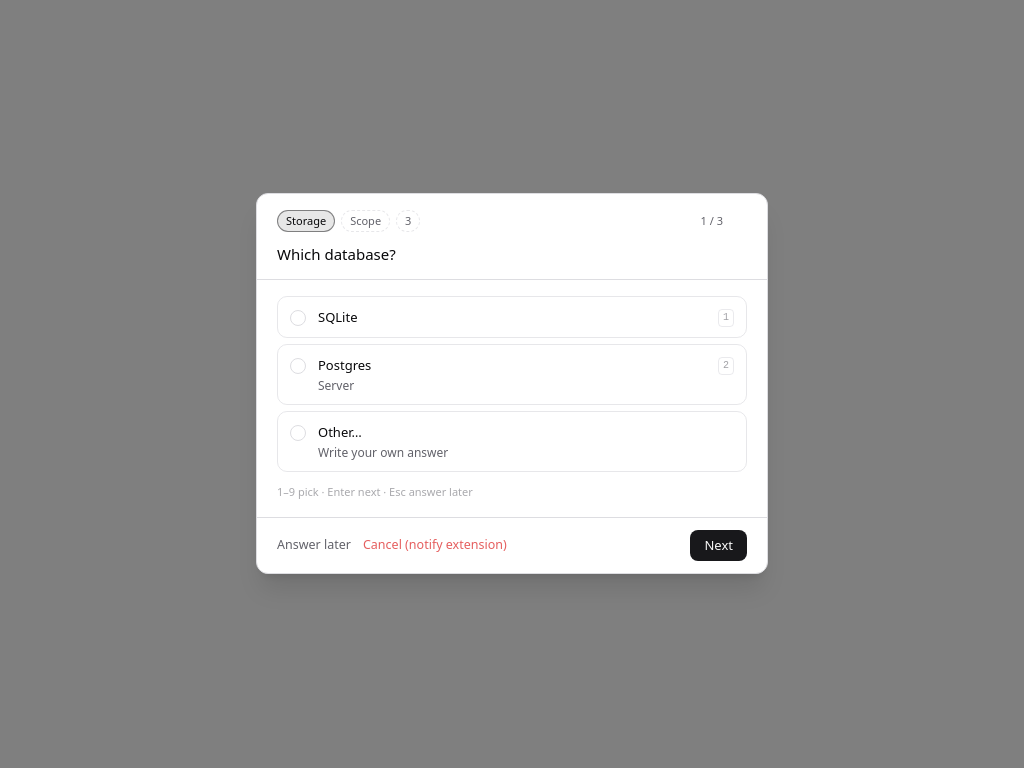
QuestionnaireDialog › sends submit to the first unanswered question instead of submitting blanks
Click the button "3".
click(408, 221)  # box x1=396 y1=210 x2=420 y2=232
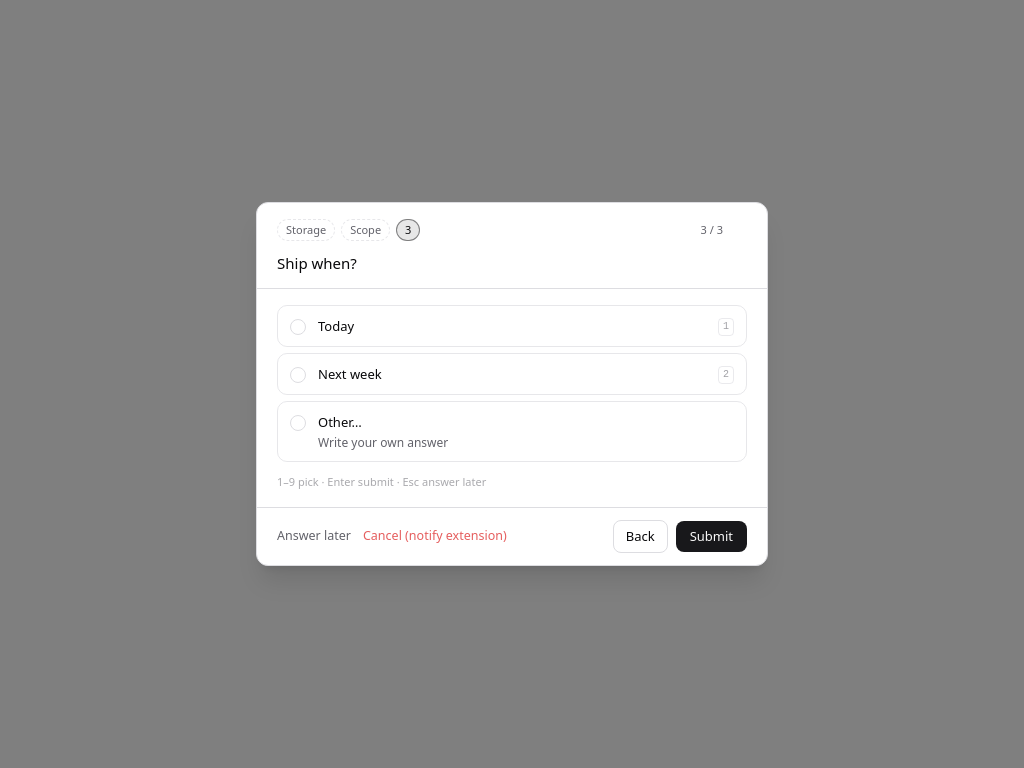
Click the radio button labelled "Next week 2".
click(350, 374)  # box x1=277 y1=353 x2=747 y2=395
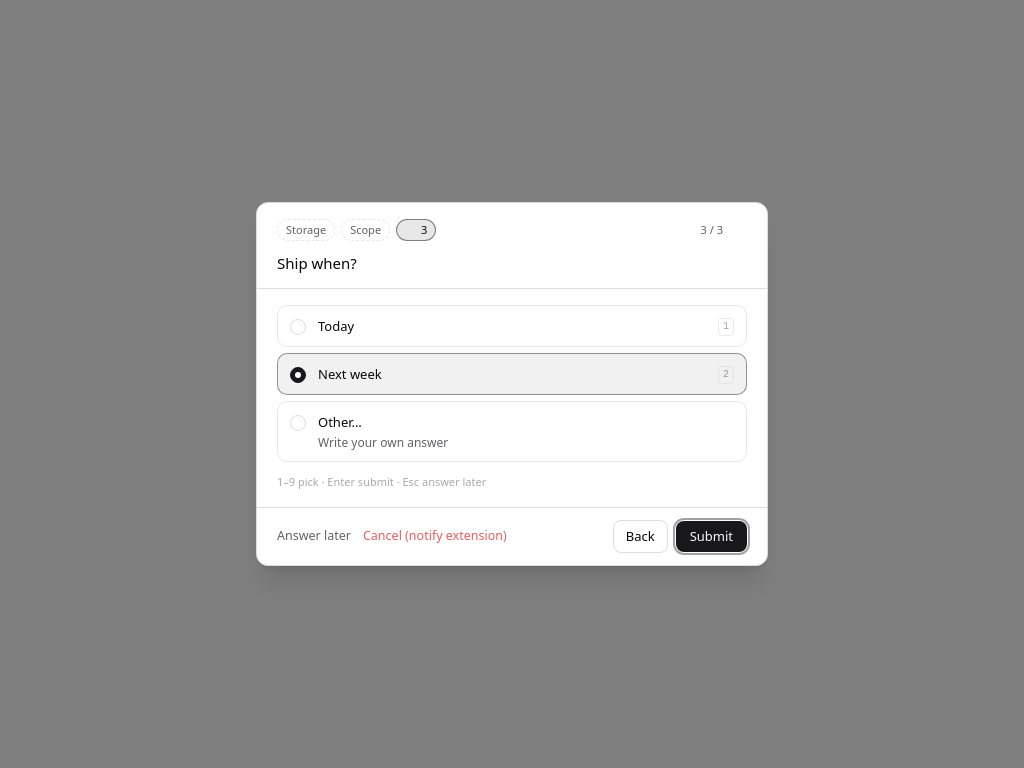
Click the button "Submit".
click(711, 536)  # box x1=676 y1=520 x2=747 y2=552
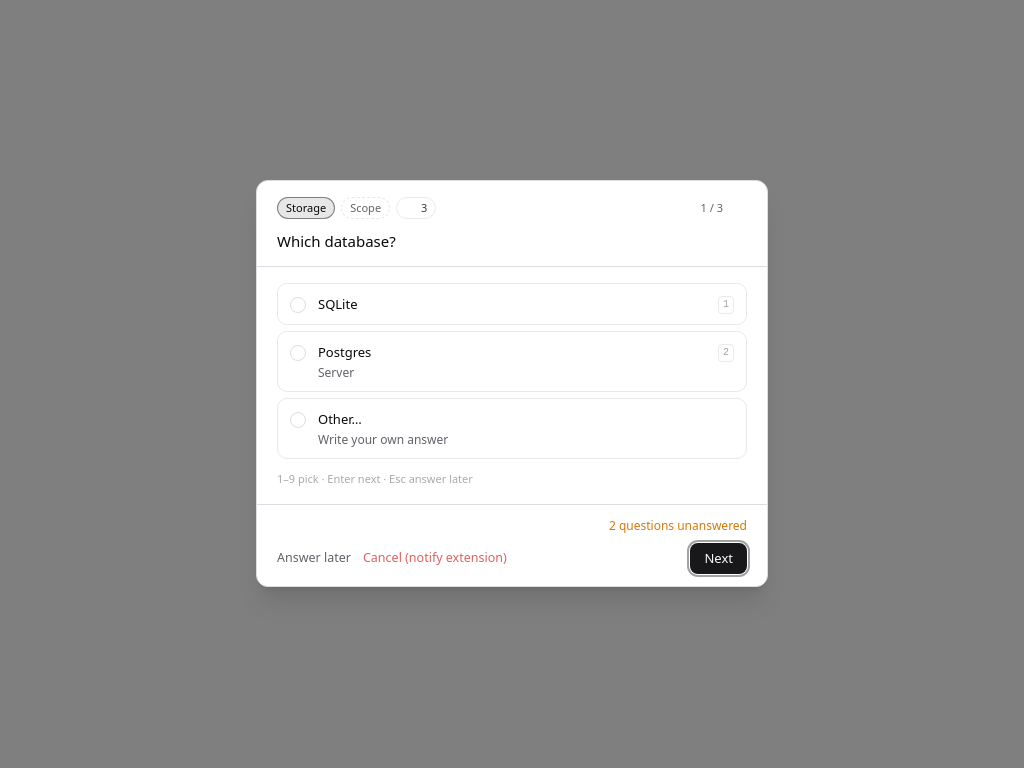
Result: the heading reads "Which database?" at x1=277 y1=231 x2=396 y2=251
Result: the message reads "2 questions unanswered" at x1=609 y1=517 x2=747 y2=534
